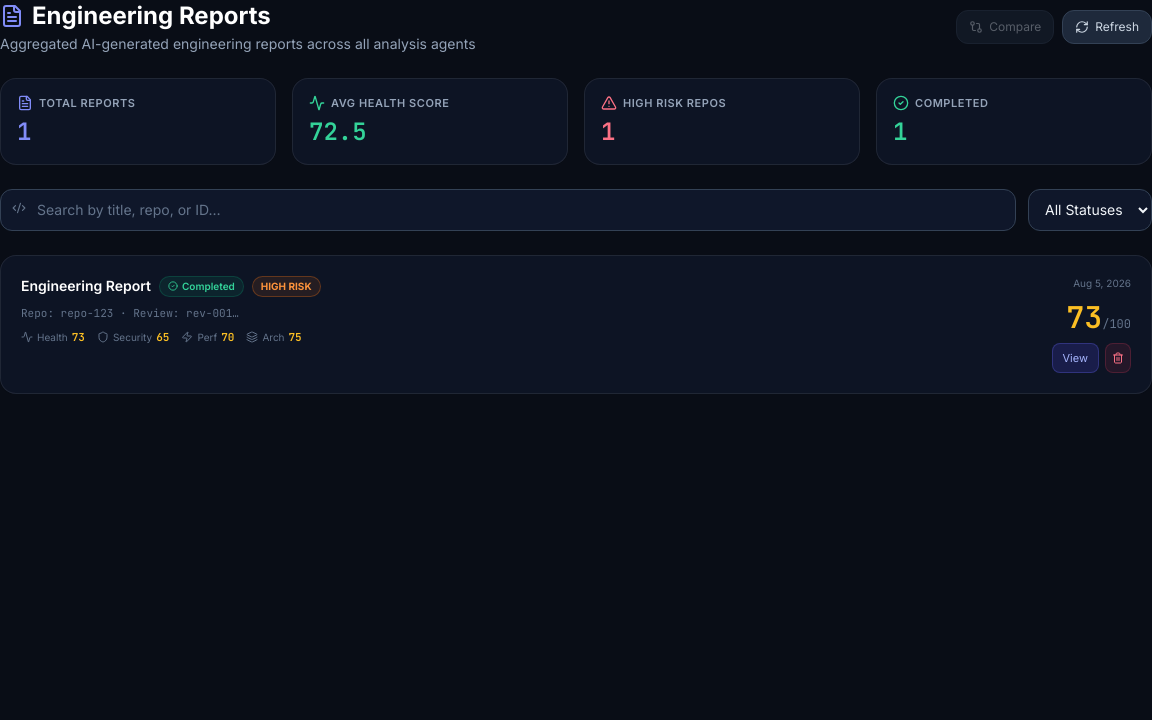
Test: ReportsPage › closing detail panel removes it
Expected: the heading "Engineering Report" is shown, [21, 276, 151, 296]
Click the button "View" at (1075, 358), box [1052, 342, 1099, 373]
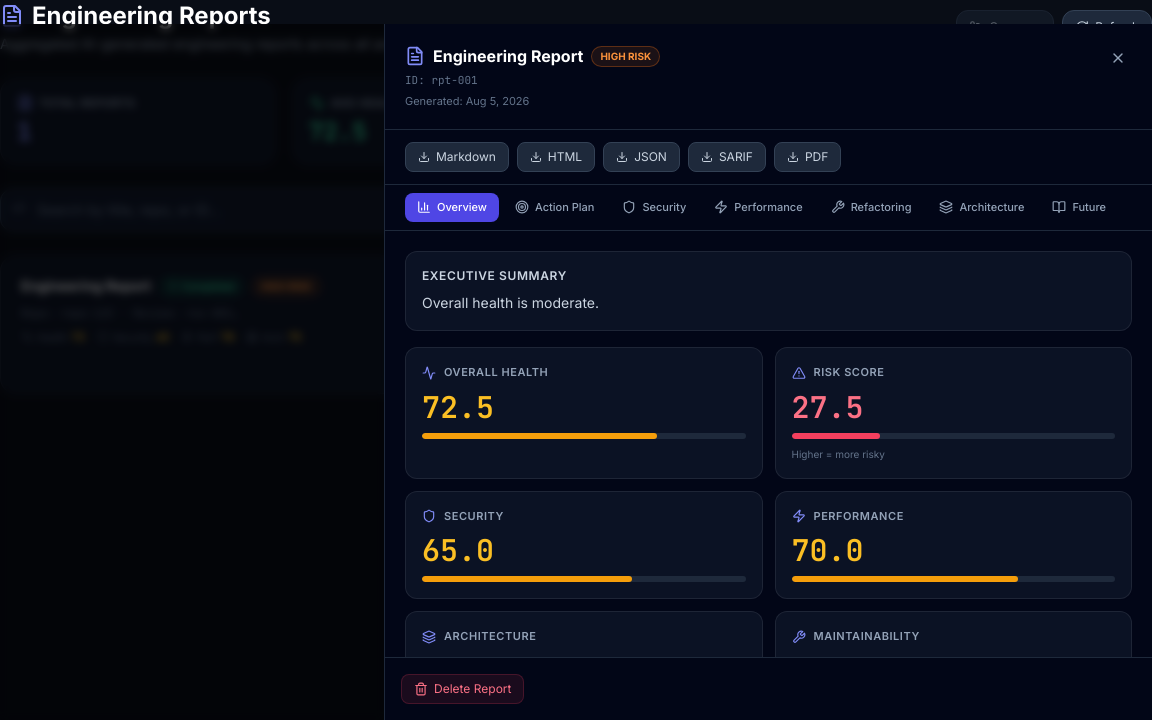
Expected: the text "Overall health is moderate." is shown, [422, 294, 599, 310]
Click the button named "close panel" at (1118, 58), box [1104, 44, 1132, 72]
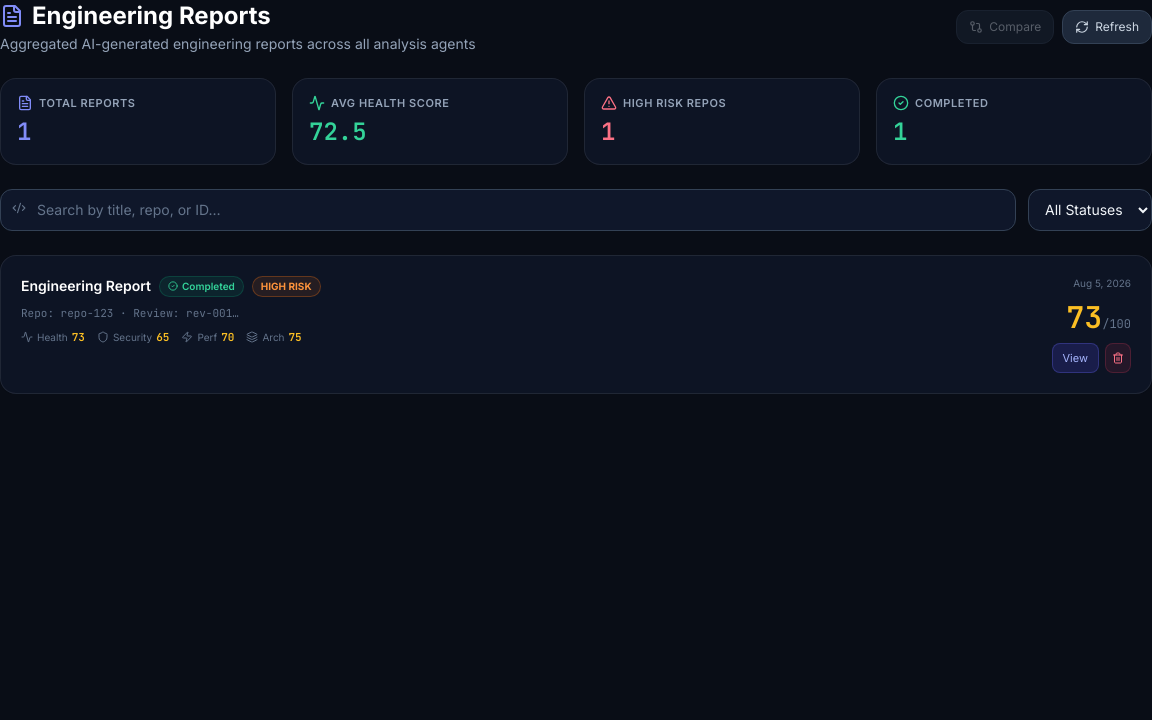
Expected: the text "Overall health is moderate." is gone
